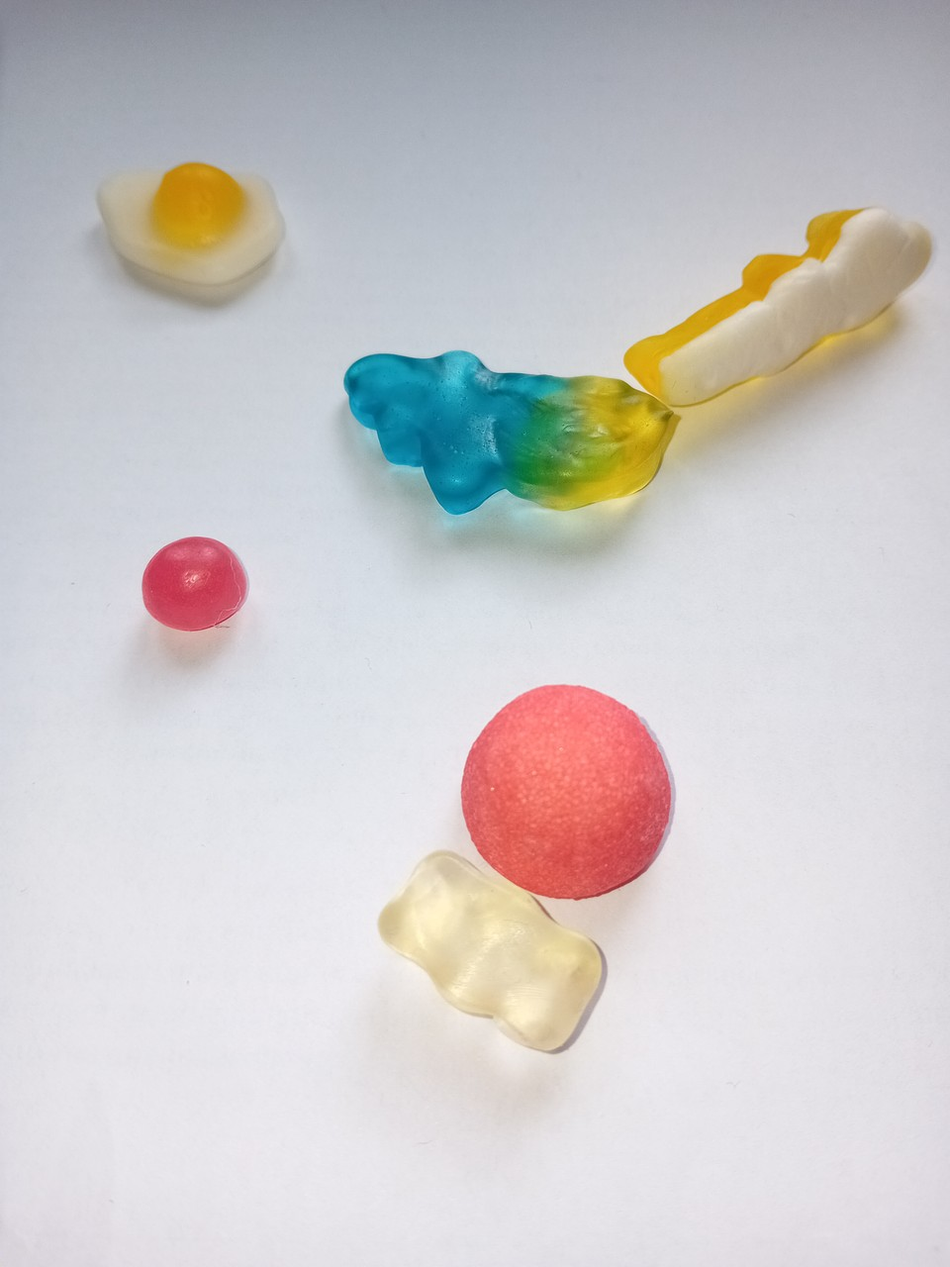crocodile_jaune: (623, 202, 934, 410)
dragibus_rouge: (133, 527, 252, 635)
oeuf_oeuf: (86, 160, 288, 290)
ourson_blanc: (360, 844, 612, 1056)
schtroumpf_bleu-jaune: (335, 347, 678, 517)
tagada_fraise: (461, 678, 677, 903)
